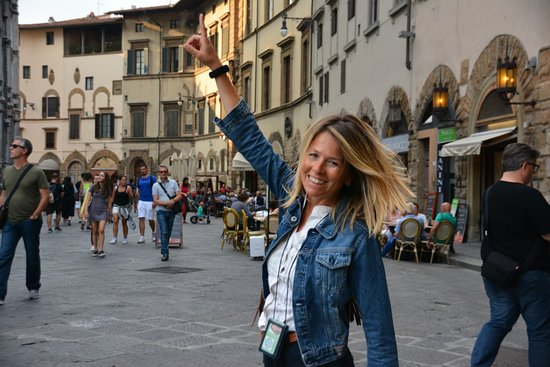with_mask: (7, 141, 19, 156), (96, 173, 104, 181), (160, 168, 167, 176), (139, 167, 145, 173), (122, 176, 125, 184)
without_mask: (304, 143, 339, 191)
